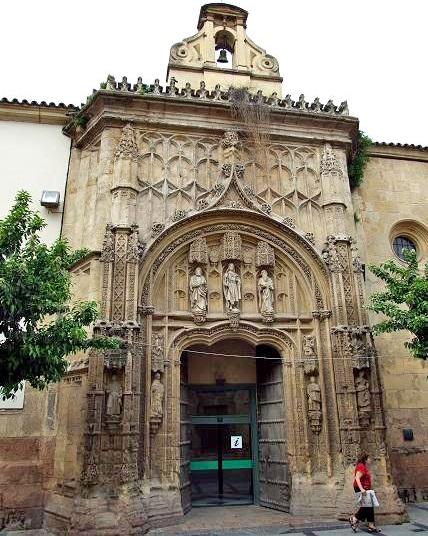arco-conopial: (149, 163, 308, 238)
arco-trilobulado: (167, 323, 292, 365)
